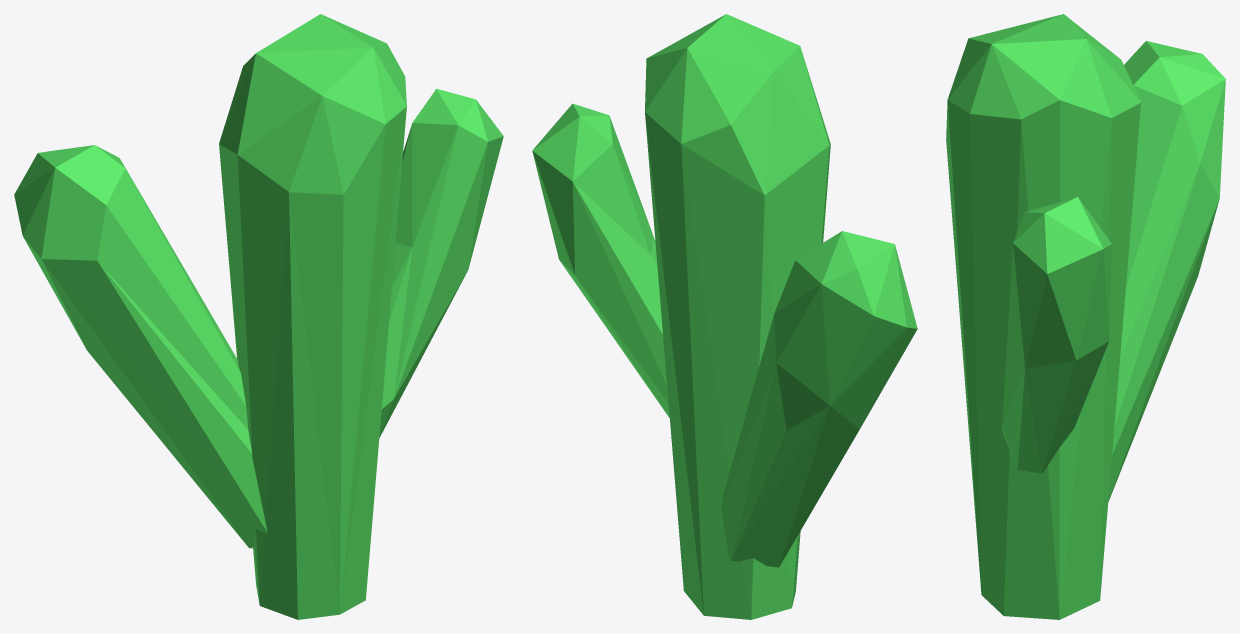
The model's file is cactus4.fbx.
3 views of the same model, side by side, from view 1: azimuth 30°, elevation 25°; view 2: azimuth 150°, elevation 25°; view 3: azimuth 270°, elevation 25° (orthographic). The views are drawn at different scales.
Parts seen in each view (by area): view 1: cactus4; view 2: cactus4; view 3: cactus4.
Part boxes in pixels (box(x1,y1,x2,y2)): cactus4: box(14, 14, 503, 619); cactus4: box(532, 14, 917, 619); cactus4: box(946, 14, 1225, 619).
Bounding box in the file's own units: 56.32 × 71.09 × 31.34.
